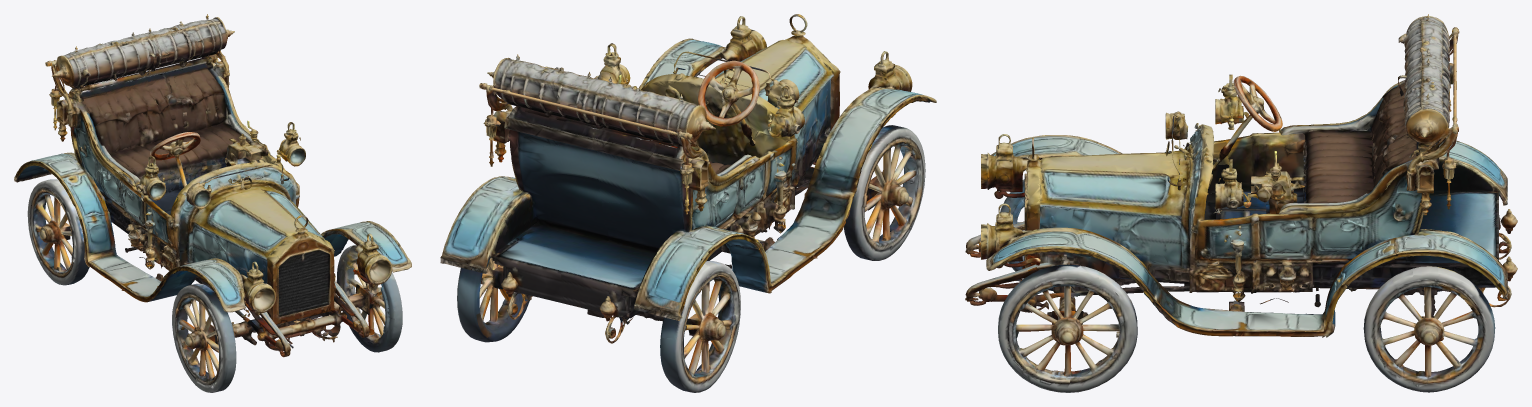
The model's file is vintage-car.glb.
The picture shows the model from 3 angles, left to right: view 1: azimuth 30°, elevation 25°; view 2: azimuth 150°, elevation 25°; view 3: azimuth 270°, elevation 25°; orthographic projection. The views are drawn at different scales.
Visible parts, largest first — view 1: tripo_node_c291e574-c605-4ab6-9d22-3dd8674c6d68; view 2: tripo_node_c291e574-c605-4ab6-9d22-3dd8674c6d68; view 3: tripo_node_c291e574-c605-4ab6-9d22-3dd8674c6d68.
Part boxes in pixels (bbox=[...]): tripo_node_c291e574-c605-4ab6-9d22-3dd8674c6d68: bbox=[14, 14, 411, 392]; tripo_node_c291e574-c605-4ab6-9d22-3dd8674c6d68: bbox=[440, 14, 936, 392]; tripo_node_c291e574-c605-4ab6-9d22-3dd8674c6d68: bbox=[965, 14, 1517, 392].
Bounding box in the file's own units: 0.5253 × 0.5733 × 1.
1 material, 1 textured.
